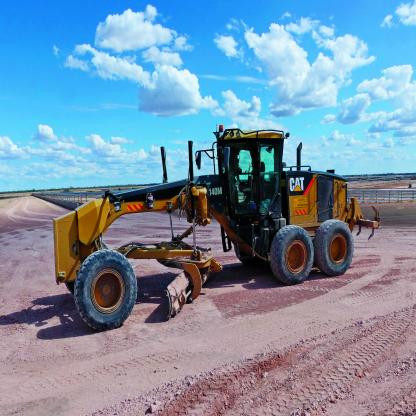bull_dozer/loader/grader: (45, 121, 392, 328)
